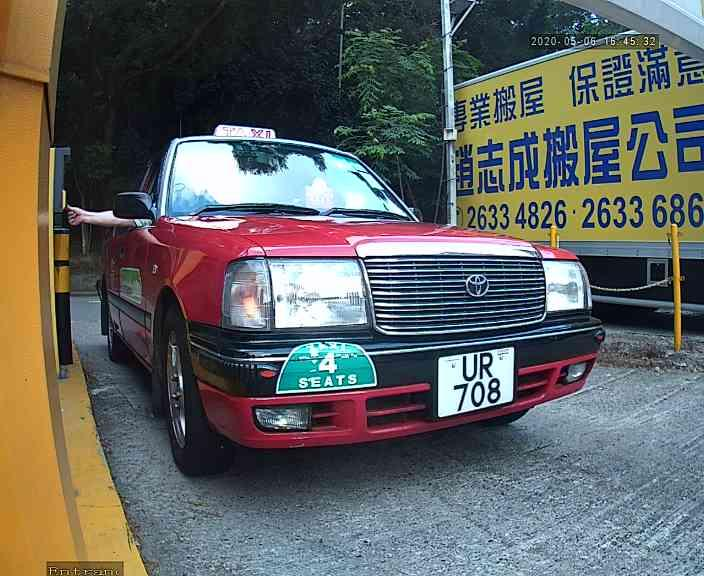Car: (67, 29, 613, 489)
License Plate: (425, 350, 513, 420)
